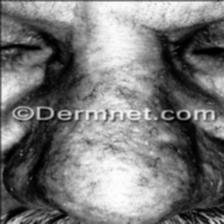Non-Cancerous Skin Condition: (0, 127, 224, 224), (3, 0, 192, 102)
